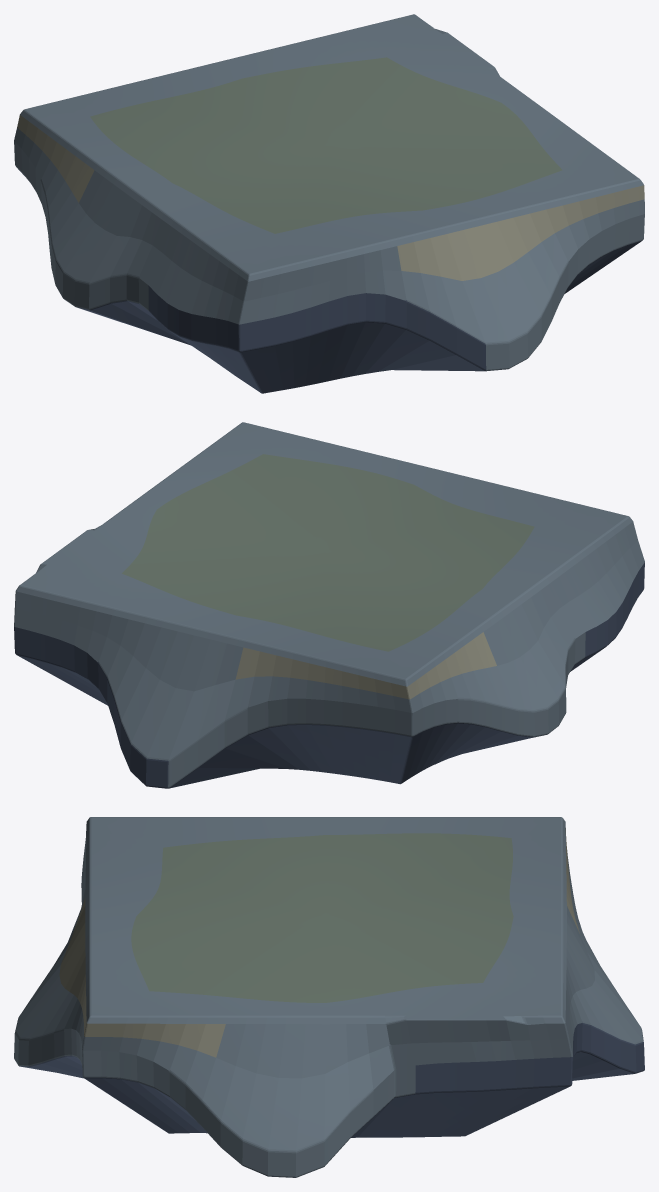
The model's file is island_v2.glb.
The picture shows the model from 3 angles, top to bottom: view 1: azimuth 30°, elevation 25°; view 2: azimuth 150°, elevation 25°; view 3: azimuth 270°, elevation 25°; orthographic projection. The views are drawn at different scales.
Parts seen in each view (by area): view 1: IslandTerrainV2; view 2: IslandTerrainV2; view 3: IslandTerrainV2.
Boxes of the visible parts, bbox=[...] form: IslandTerrainV2: bbox=[14, 14, 644, 393]; IslandTerrainV2: bbox=[14, 422, 644, 788]; IslandTerrainV2: bbox=[14, 817, 644, 1177].
Size of the model in its own units: 15.22 by 5.05 by 15.54.
